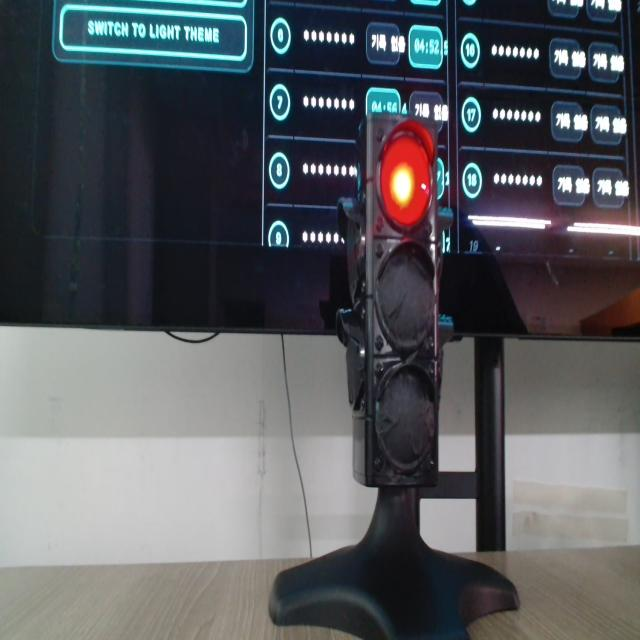red_light: (380, 122, 432, 226)
